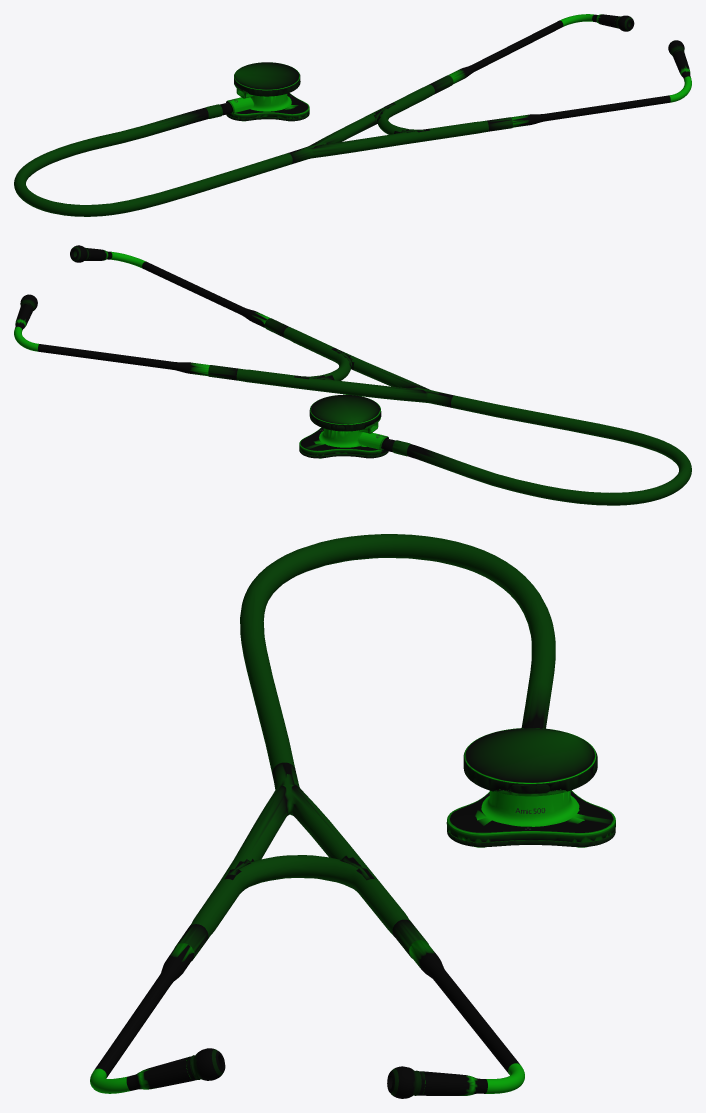
Rendered from SR-stethoscope_electronic_a01.glb.
3 renders of one model, top to bottom at view 1: azimuth 30°, elevation 25°; view 2: azimuth 150°, elevation 25°; view 3: azimuth 270°, elevation 25°, orthographic. The views are drawn at different scales.
Visible parts, largest first — view 1: stethoscope_01_mesh_00, stethoscope_glass_01_mesh_00; view 2: stethoscope_01_mesh_00, stethoscope_glass_01_mesh_00; view 3: stethoscope_01_mesh_00, stethoscope_glass_01_mesh_00.
Part boxes in pixels (x1,y1,x2,y2): stethoscope_01_mesh_00: (14,14,691,216); stethoscope_glass_01_mesh_00: (234,62,299,90); stethoscope_01_mesh_00: (14,245,691,505); stethoscope_glass_01_mesh_00: (310,394,380,424); stethoscope_01_mesh_00: (90,534,615,1098); stethoscope_glass_01_mesh_00: (464,728,596,783).
Bounding box in the file's own units: 0.5978 × 0.0443 × 0.2214.
Materials: 6 (3 with a texture image).
